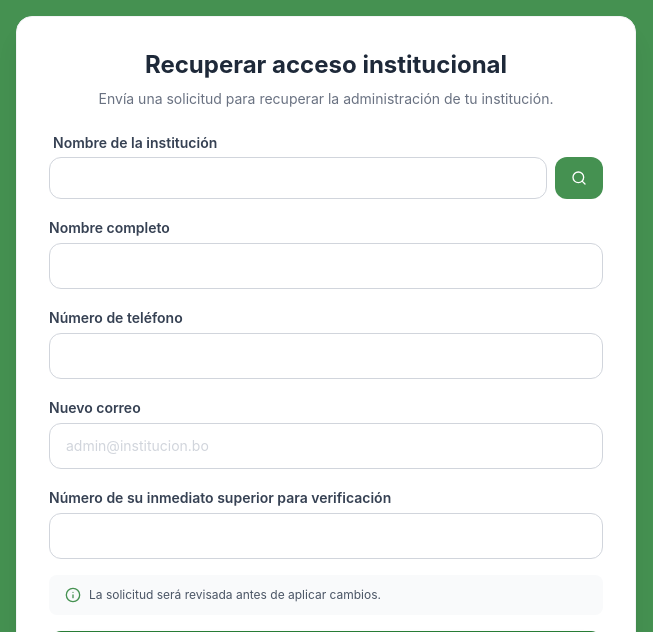
Scenario: MX-02 | Gestión de instituciones, administradores y wallets | Frontend Admin | Recuperación pública › [MX-02][SOPORTE-RECOVERY-PUBLIC][INTEGRACION] maneja búsqueda pública con error, reintento y datos sanitizados
Type "Tribunal" into the field labelled "Nombre de la institución".
click(298, 178); type("Tribunal")  # box top-left (49, 157), bottom-right (547, 199)
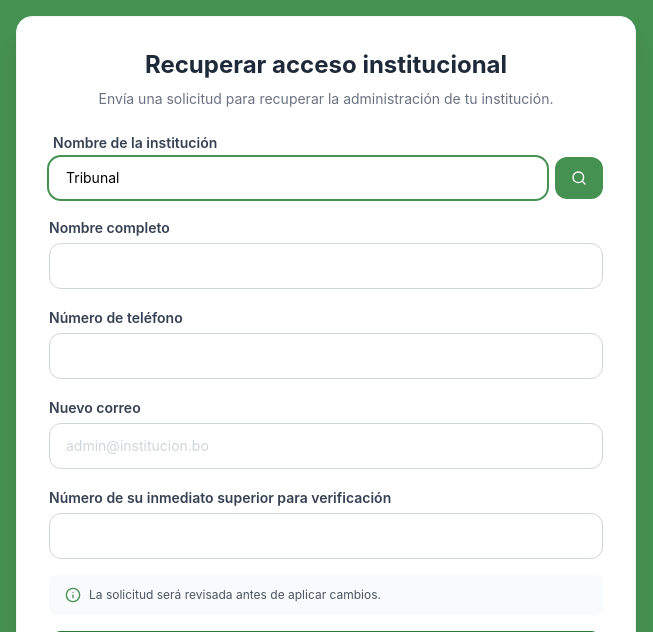
Click the button named "Buscar".
click(579, 178)  # box top-left (555, 157), bottom-right (603, 199)
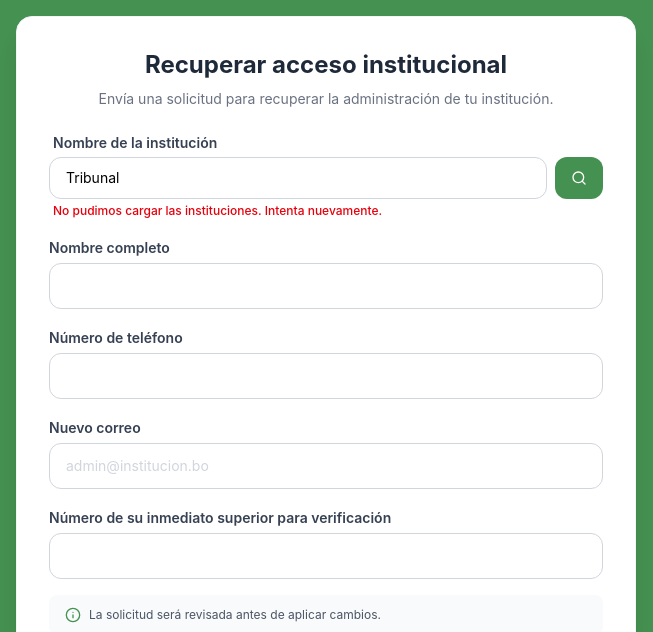
Now the text "No pudimos cargar las instituciones. Intenta nuevamente." is shown, box top-left (53, 203), bottom-right (382, 218)
Click the button named "Buscar".
click(579, 178)  # box top-left (555, 157), bottom-right (603, 199)
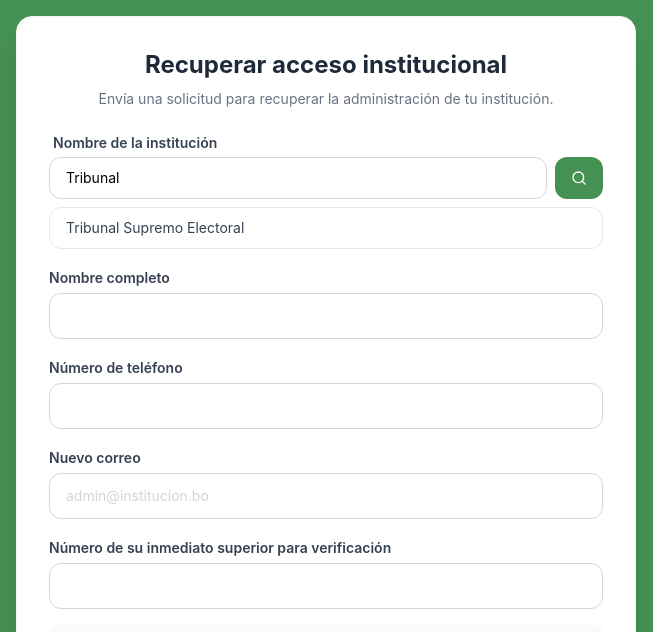
Now the option "Tribunal Supremo Electoral" is shown, box top-left (50, 208), bottom-right (602, 248)
